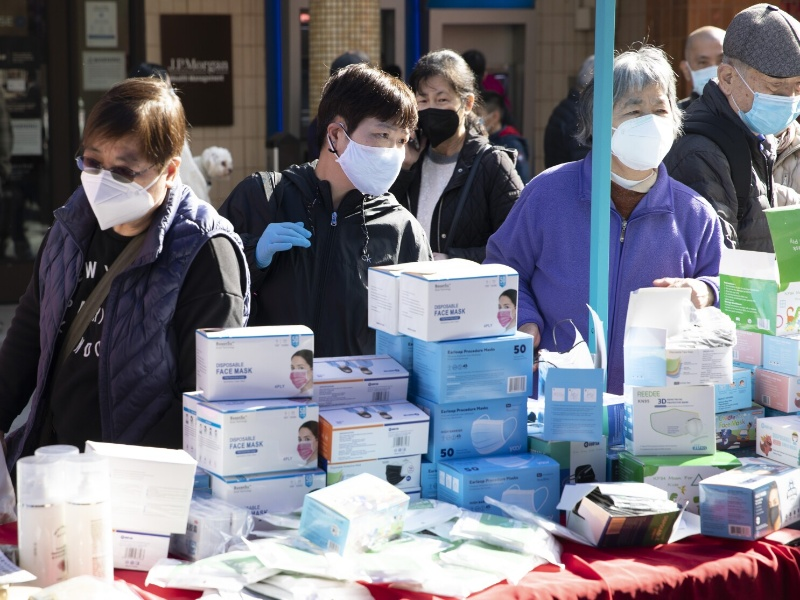mask: (78, 169, 155, 232), (337, 141, 408, 198), (611, 114, 677, 171), (736, 92, 800, 136), (416, 106, 460, 147), (687, 65, 719, 93)
